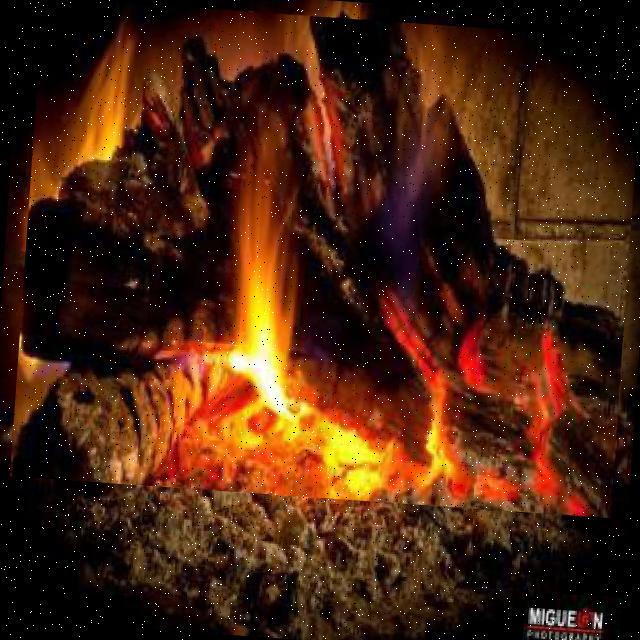fire: (9, 0, 640, 518)
